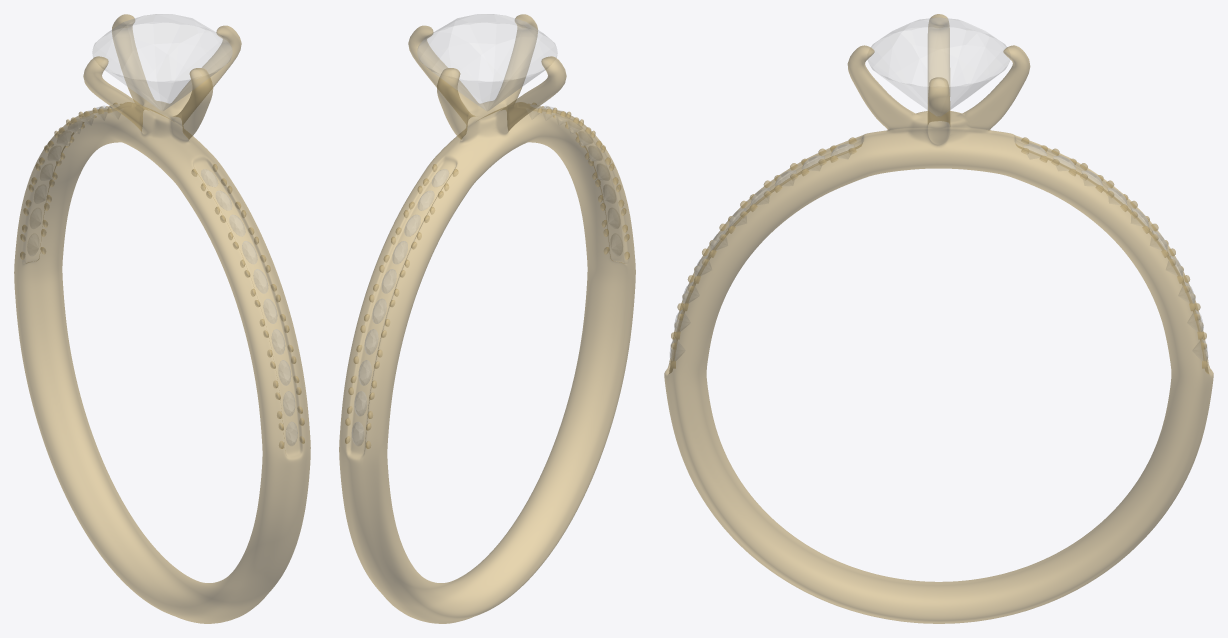
3 renders of one model, left to right at view 1: azimuth 30°, elevation 25°; view 2: azimuth 150°, elevation 25°; view 3: azimuth 270°, elevation 25°, orthographic. The views are drawn at different scales.
Parts seen in each view (by area): view 1: Ring, Diamond; view 2: Ring, Diamond; view 3: Ring, Diamond.
Boxes of the visible parts, x1,y1,x2,y2 form: Ring: (14,14,310,623); Diamond: (27,14,297,445); Ring: (339,14,635,623); Diamond: (352,14,622,445); Ring: (664,14,1213,623); Diamond: (670,17,1207,360).
Size of the model in its own units: 0.7785 by 2.76 by 2.34.
